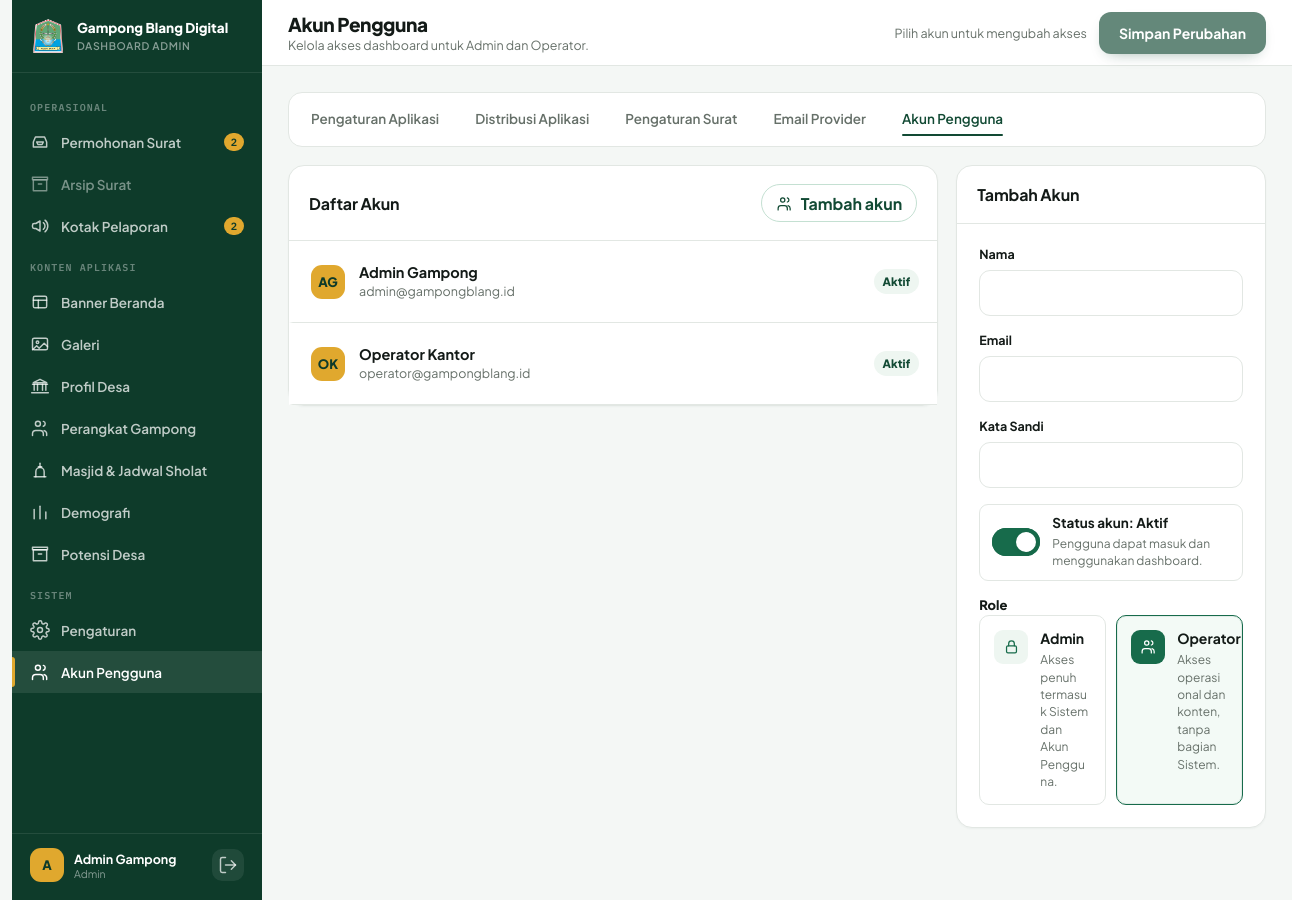
Test: user account settings › lets admins update user status and role
Check: the heading "Akun Pengguna" is shown, box x1=288 y1=12 x2=428 y2=36
Click the button "OK Operator Kantor operator@gampongblang.id Aktif" at (328, 364), box x1=289 y1=323 x2=937 y2=405
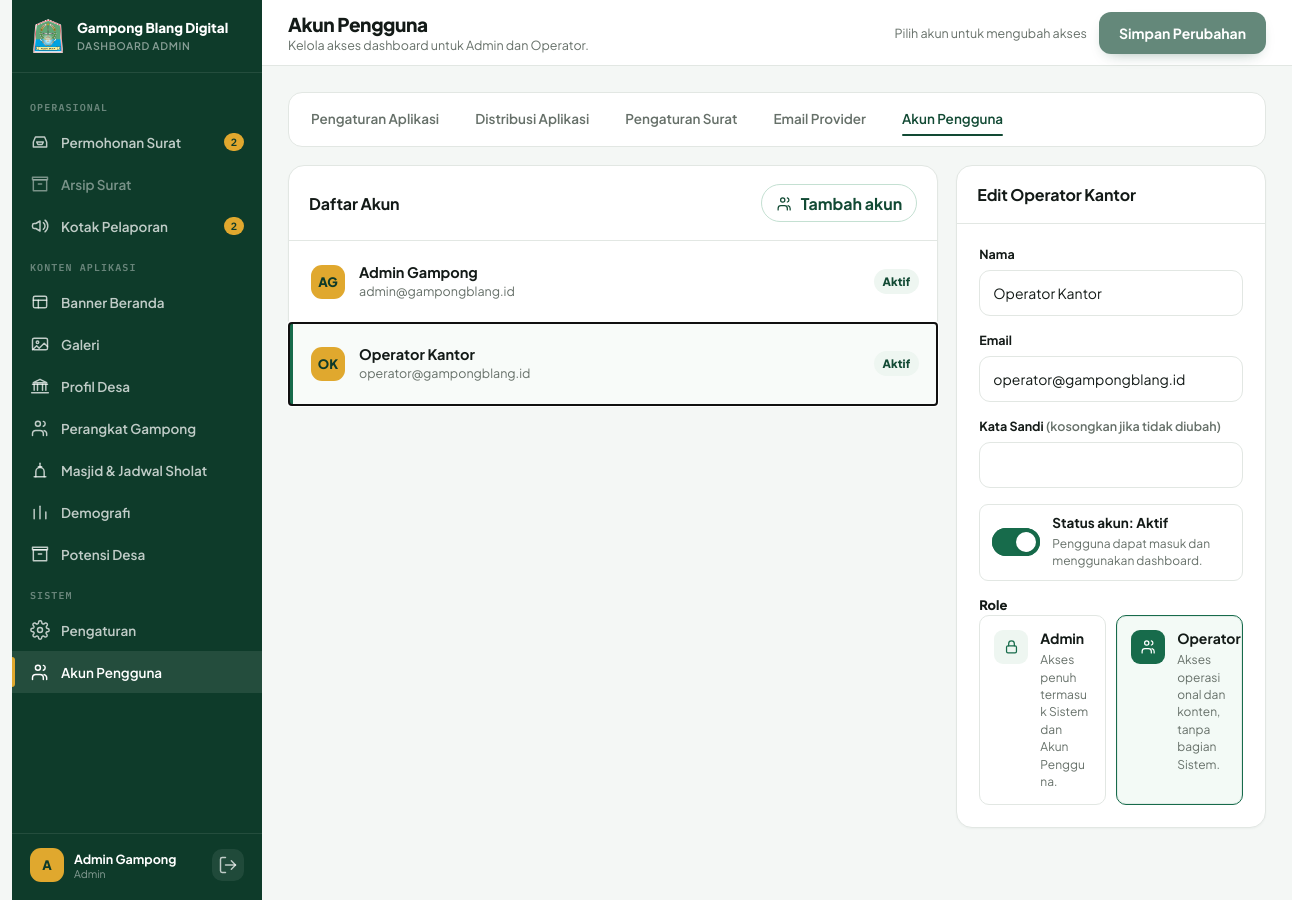
Click the switch labelled "Status akun" at (1111, 542), box x1=979 y1=504 x2=1243 y2=581
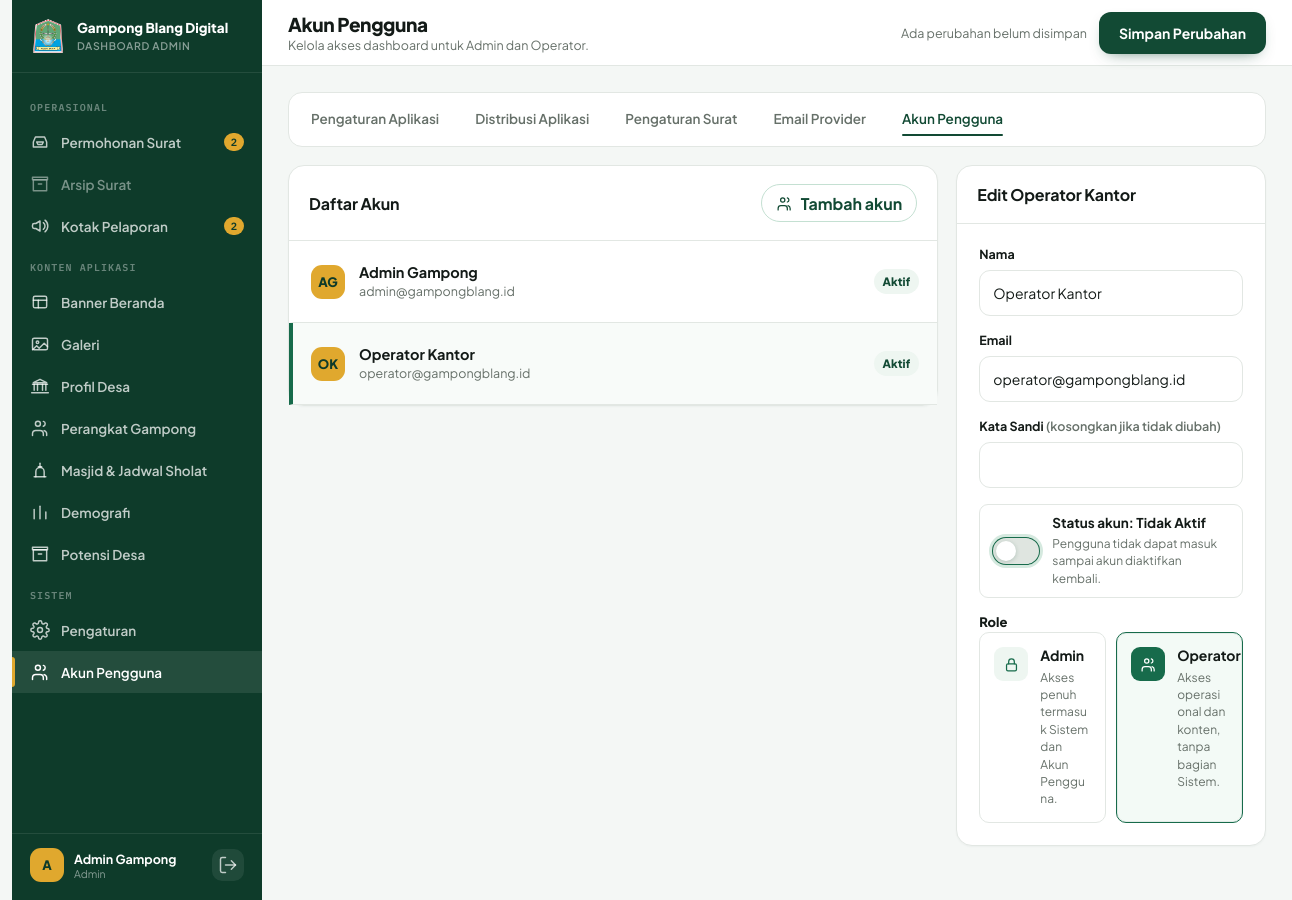
Click the radio button labelled "Admin Akses penuh termasuk Sistem dan Akun Pengguna." at (1043, 727), box x1=979 y1=632 x2=1106 y2=823
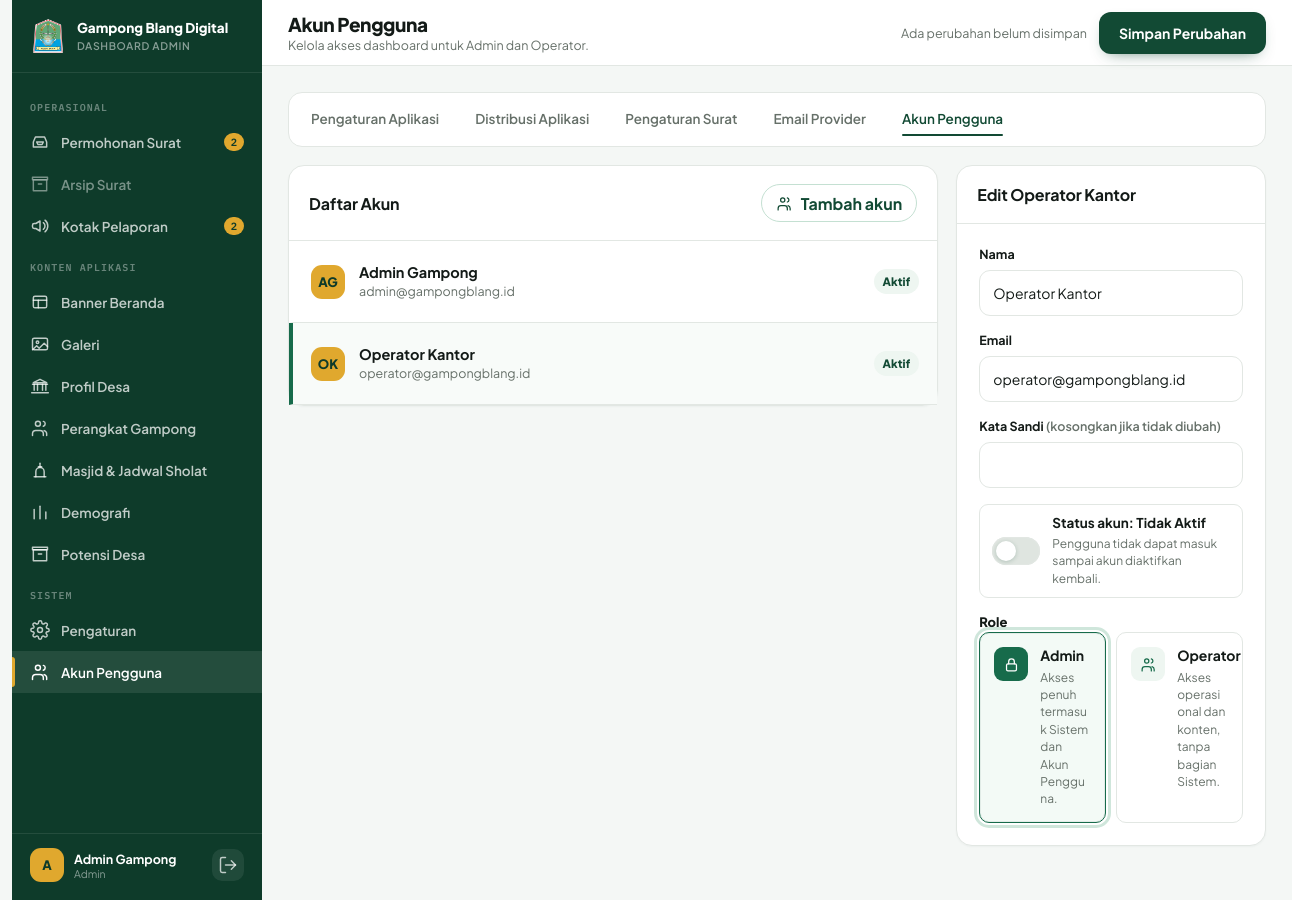
Click the button "Simpan Perubahan" at (1182, 32), box x1=1099 y1=12 x2=1266 y2=54
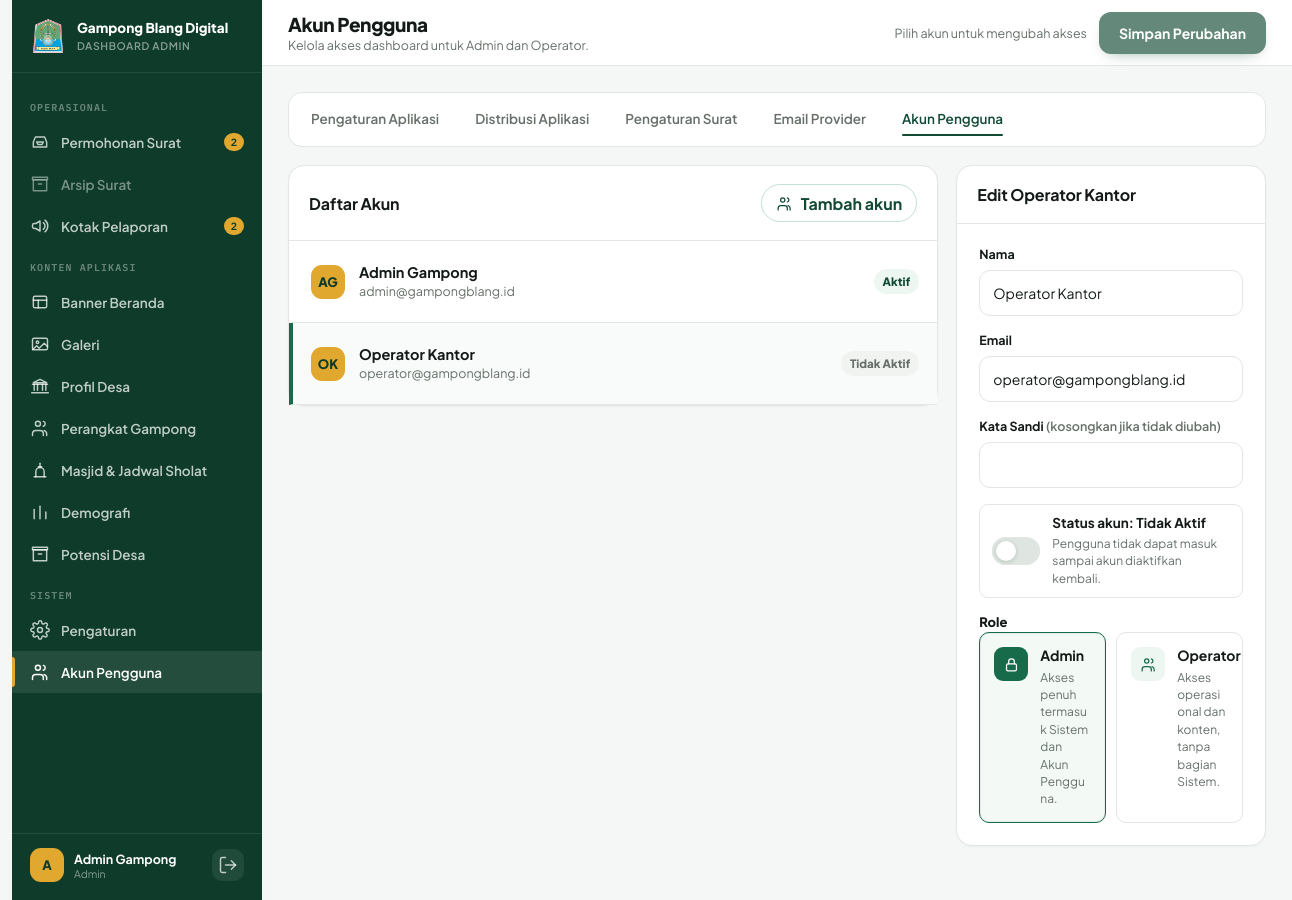
Check: the button "OK Operator Kantor operator@gampongblang.id Tidak Aktif" is shown, box x1=289 y1=323 x2=937 y2=405
